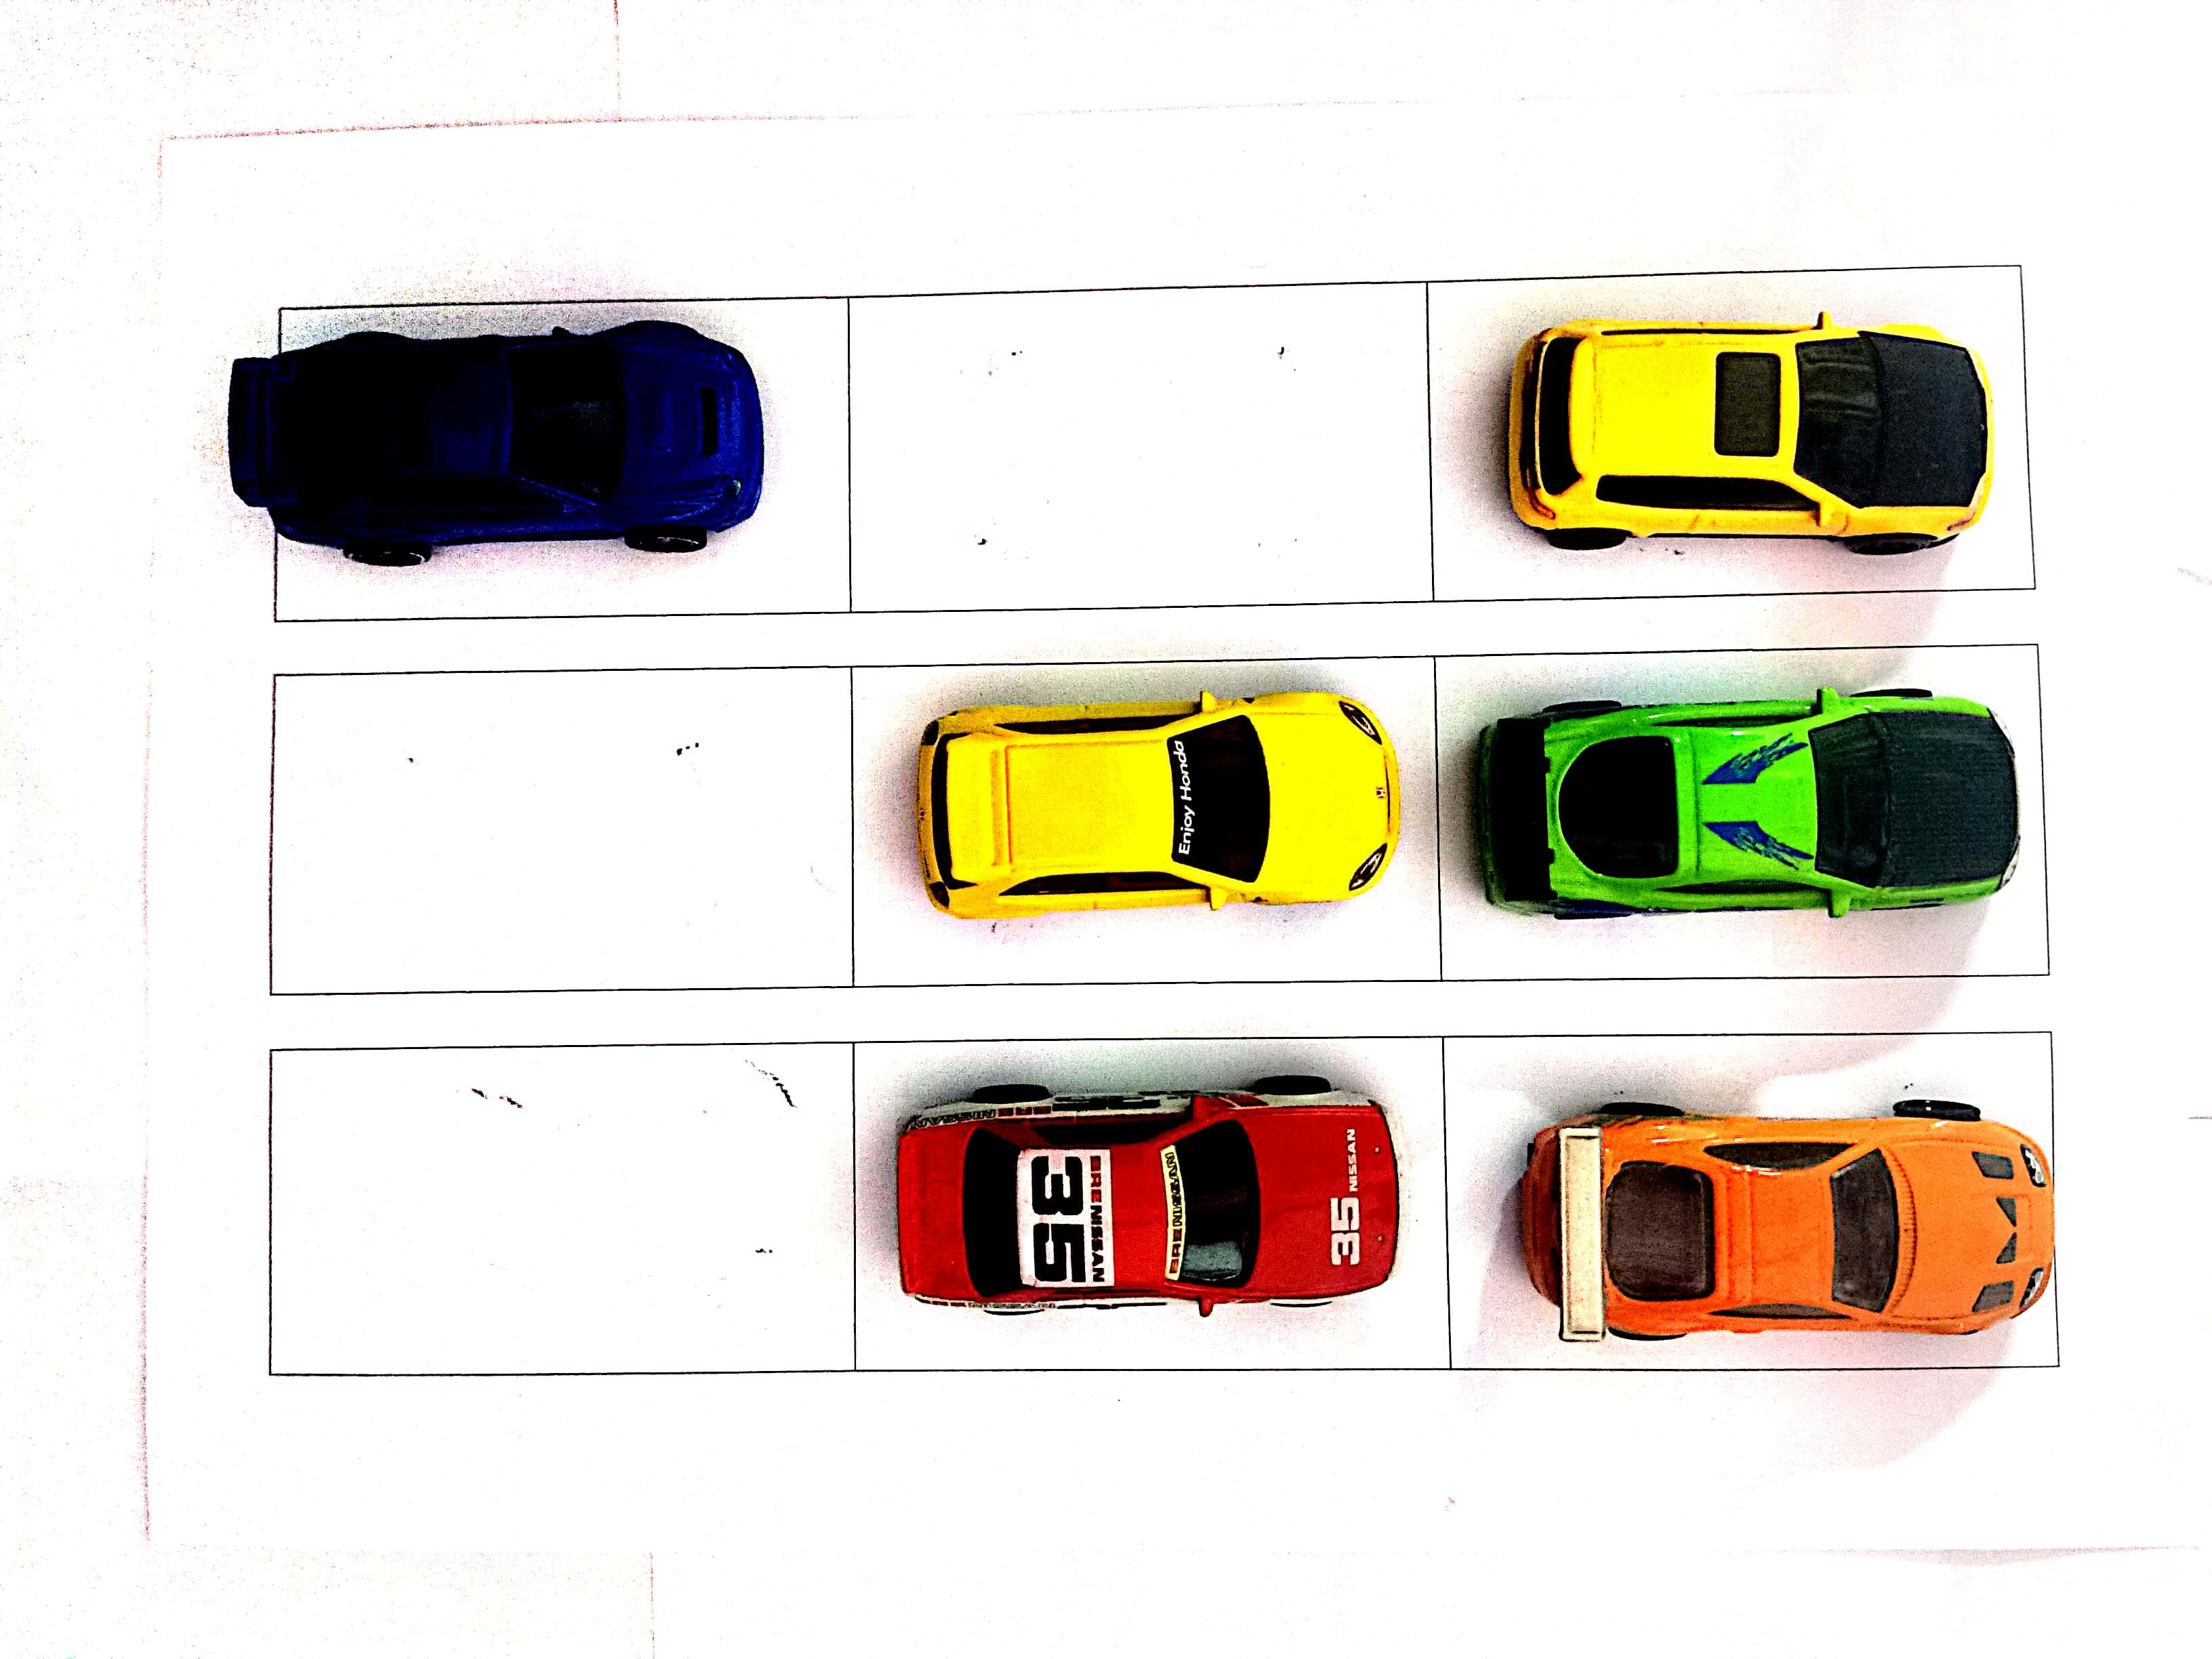Busy: (1437, 650, 2033, 992), (1446, 1037, 2050, 1363), (1433, 263, 2017, 593), (857, 667, 1437, 985), (860, 1044, 1433, 1358), (273, 300, 840, 615)
Free: (265, 1049, 857, 1380), (836, 284, 1433, 603), (261, 671, 843, 992)
